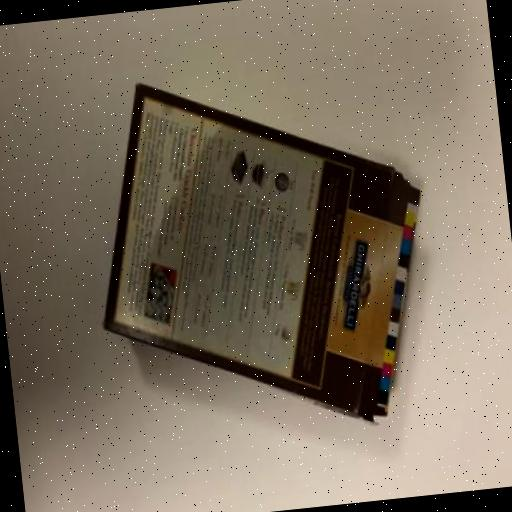cardboard: (79, 56, 447, 457)
